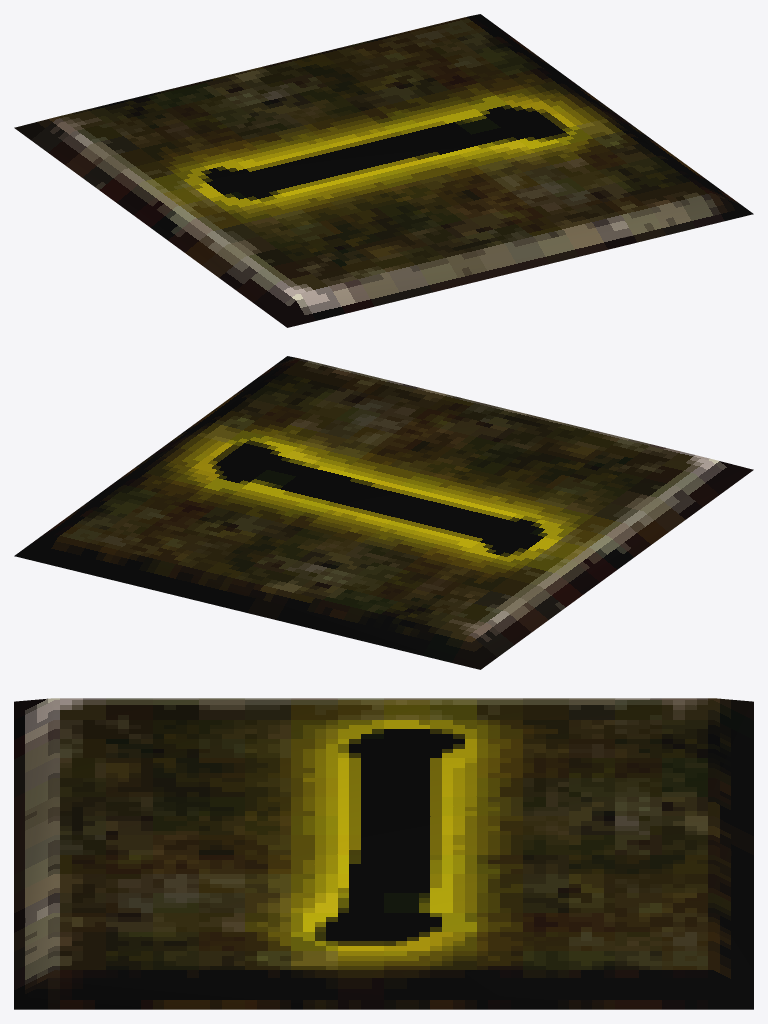
The model's file is EREBOR_RUNE_PZL_EREBOR_PZL_TILE_ACTIVE41.fbx.
The picture shows the model from 3 angles, top to bottom: view 1: azimuth 30°, elevation 25°; view 2: azimuth 150°, elevation 25°; view 3: azimuth 270°, elevation 25°; orthographic projection. The views are drawn at different scales.
Visible parts, largest first — view 1: EREBOR_RUNE_PZL_EREBOR_PZL_TILE_ACTIVE41; view 2: EREBOR_RUNE_PZL_EREBOR_PZL_TILE_ACTIVE41; view 3: EREBOR_RUNE_PZL_EREBOR_PZL_TILE_ACTIVE41.
Boxes of the visible parts, <box> form: EREBOR_RUNE_PZL_EREBOR_PZL_TILE_ACTIVE41: <box>14,14,753,327</box>; EREBOR_RUNE_PZL_EREBOR_PZL_TILE_ACTIVE41: <box>14,356,753,669</box>; EREBOR_RUNE_PZL_EREBOR_PZL_TILE_ACTIVE41: <box>14,698,753,1009</box>.
Size of the model in its own units: 9945 by 305 by 10093.
Materials: 1 (1 with a texture image).
